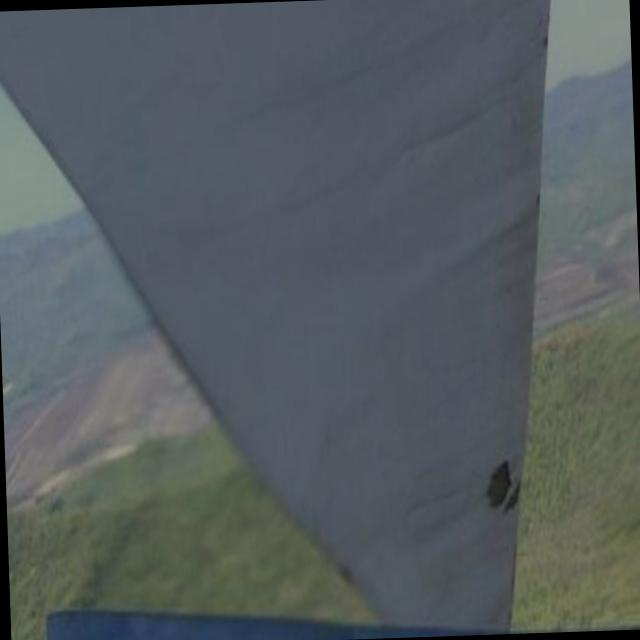surface_peeling: (482, 457, 520, 518)
